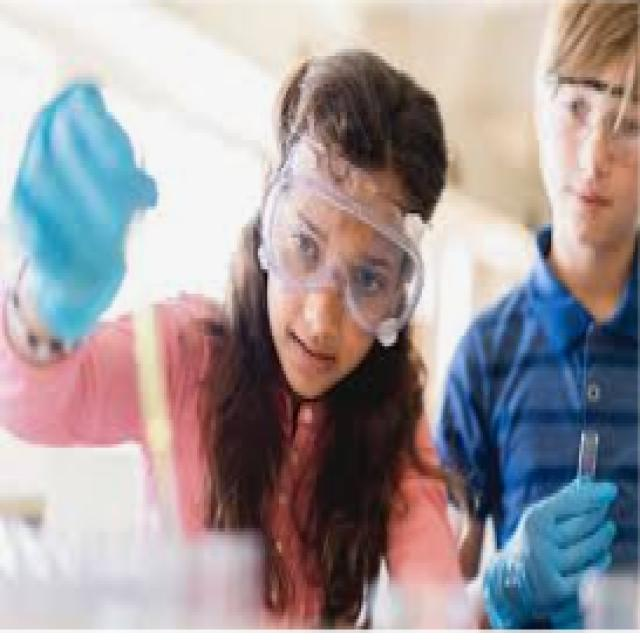glasses: (263, 161, 425, 349), (544, 63, 640, 163)
